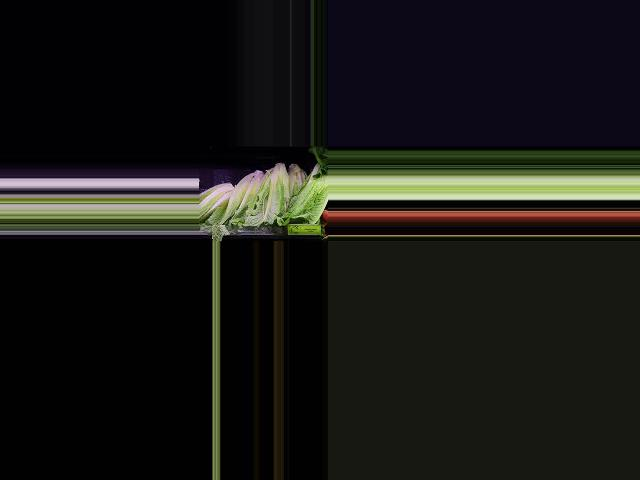lettuce: (198, 181, 236, 222)
